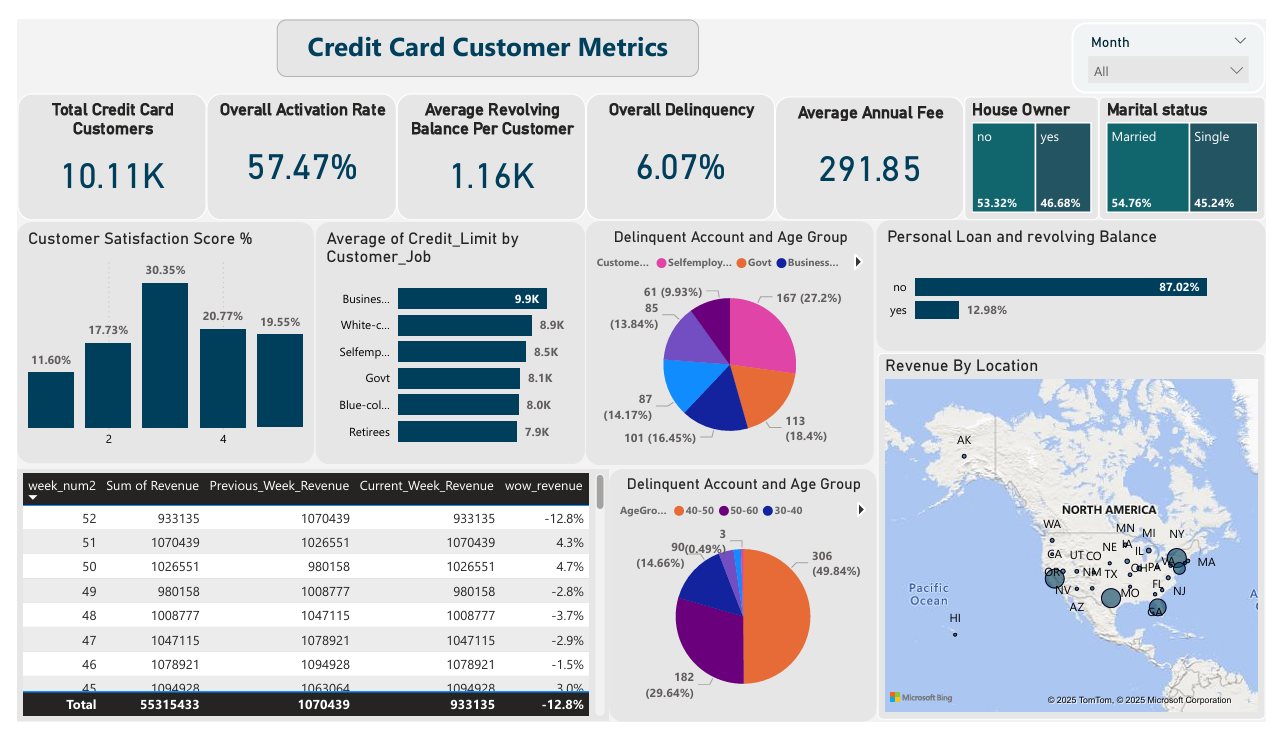

The dashboard page shown, as its layout file describes it:
{"tool":"powerbi","page":{"name":" Credit Card Metrics","canvas":[1280,720],"ordinal":0},"visuals":[{"type":"tableEx","fields":{"Values":["credit_card.week_num2","Sum(credit_card.Revenue)","credit_card.Previous_Week_Revenue","credit_card.Current_Week_Revenue","credit_card.wow_revenue"]},"box":[0,460.8,606.6,258.6],"z":0},{"type":"card","title":"Overall Activation Rate","fields":{"Values":["credit_card.Overall Activation rate"]},"box":[194.4,75.8,194.4,130.3],"z":1000},{"type":"card","title":"Overall Delinquency ","fields":{"Values":["credit_card.Delinquent Percentage"]},"box":[582.9,75.7,194.3,130],"z":2000},{"type":"card","title":"Average Revolving Balance Per Customer","fields":{"Values":["Avg(credit_card.Total_Revolving_Bal)"]},"box":[388.8,75.8,194.4,130.3],"z":3000},{"type":"columnChart","title":"Customer Satisfaction Score %","fields":{"Category":["customer.Cust_Satisfaction_Score"],"Y":["CountNonNull(customer.contact)"]},"box":[0,208,304,247],"z":4000},{"type":"map","title":"Revenue By Location","fields":{"Category":["customer.state_cd"],"Size":["Sum(credit_card.Revenue)"]},"box":[882,342,398,376],"z":5000},{"type":"barChart","fields":{"Category":["customer.Customer_Job"],"Y":["Avg(credit_card.Credit_Limit)"]},"box":[306,208,276,248],"z":6000},{"type":"card","title":"Total Credit Card Customers","fields":{"Values":["CountNonNull(customer.contact)"]},"box":[0,75.7,194.3,130],"z":7000},{"type":"card","title":"Average Annual Fee","fields":{"Values":["Avg(credit_card.Annual_Fees)"]},"box":[777.1,78.6,194.3,127.1],"z":8000},{"type":"barChart","title":"Personal Loan and revolving Balance","fields":{"Y":["Sum(credit_card.Total_Revolving_Bal)"],"Category":["customer.Personal_loan"]},"box":[881.4,205.7,398.6,134.3],"z":9000},{"type":"pieChart","title":"Delinquent Account and Age Group","fields":{"Category":["customer.AgeGroup"],"Y":["Sum(credit_card.Delinquent_Acc)"]},"box":[607.1,461.4,274.3,258.6],"z":10000},{"type":"pieChart","title":"Delinquent Account and Age Group","fields":{"Y":["Sum(credit_card.Delinquent_Acc)"],"Category":["customer.Customer_Job"]},"box":[582.9,207.1,295,250],"z":11000},{"type":"slicer","fields":{"Values":["credit_card.Week_Start_Date.Variation.Date Hierarchy.Month"]},"box":[1081.4,2.9,198.6,72.9],"z":12000},{"type":"treemap","title":"House Owner","fields":{"Group":["customer.House_Owner"],"Values":["CountNonNull(customer.contact)"]},"box":[971.4,78.6,137.1,127.1],"z":12001},{"type":"treemap","title":"Marital status","fields":{"Values":["CountNonNull(customer.contact)"],"Group":["customer.Marital_Status"]},"box":[1108.6,78.6,171.4,127.1],"z":12002},{"type":"textbox","box":[265.7,0,432.9,58.6],"z":12003}]}

Visuals, with their boxes in screenshot pixels (x1, y1, x2, y2), scaled from the page's 1280x720 canvas onto the 1284x739 screenshot:
tableEx - credit_card.week_num2 x Sum(credit_card.Revenue): {"left": 0, "top": 473, "right": 608, "bottom": 738}
"Overall Activation Rate" card: {"left": 195, "top": 78, "right": 390, "bottom": 212}
"Overall Delinquency " card: {"left": 585, "top": 78, "right": 780, "bottom": 211}
"Average Revolving Balance Per Customer" card: {"left": 390, "top": 78, "right": 585, "bottom": 212}
"Customer Satisfaction Score %" columnChart: {"left": 0, "top": 213, "right": 305, "bottom": 467}
"Revenue By Location" map: {"left": 885, "top": 351, "right": 1283, "bottom": 737}
barChart - customer.Customer_Job x Avg(credit_card.Credit_Limit): {"left": 307, "top": 213, "right": 584, "bottom": 468}
"Total Credit Card Customers" card: {"left": 0, "top": 78, "right": 195, "bottom": 211}
"Average Annual Fee" card: {"left": 780, "top": 81, "right": 974, "bottom": 211}
"Personal Loan and revolving Balance" barChart: {"left": 884, "top": 211, "right": 1283, "bottom": 349}
"Delinquent Account and Age Group" pieChart: {"left": 609, "top": 474, "right": 884, "bottom": 738}
"Delinquent Account and Age Group" pieChart: {"left": 585, "top": 213, "right": 881, "bottom": 469}
slicer - credit_card.Week_Start_Date.Variation.Date Hierarchy.Month: {"left": 1085, "top": 3, "right": 1283, "bottom": 78}
"House Owner" treemap: {"left": 974, "top": 81, "right": 1112, "bottom": 211}
"Marital status" treemap: {"left": 1112, "top": 81, "right": 1283, "bottom": 211}
textbox: {"left": 267, "top": 0, "right": 701, "bottom": 60}
